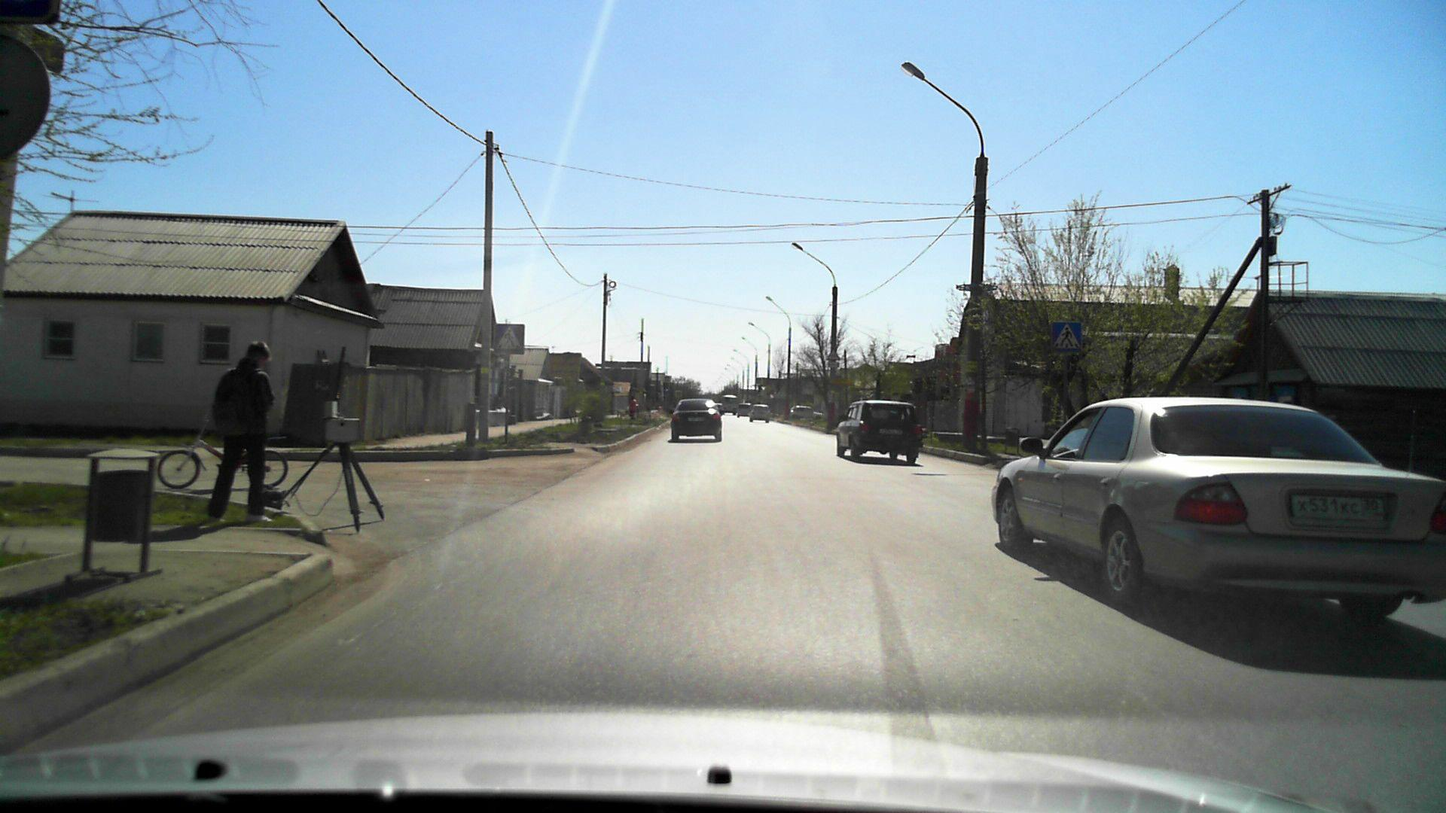road_sign: (1050, 320, 1083, 353)
